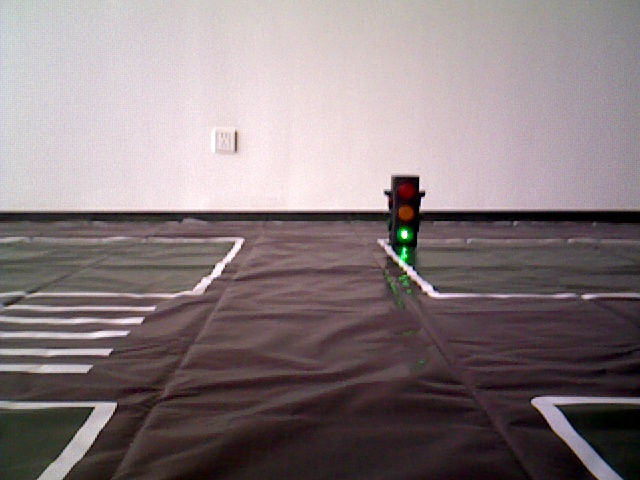green: (390, 177, 417, 243)
